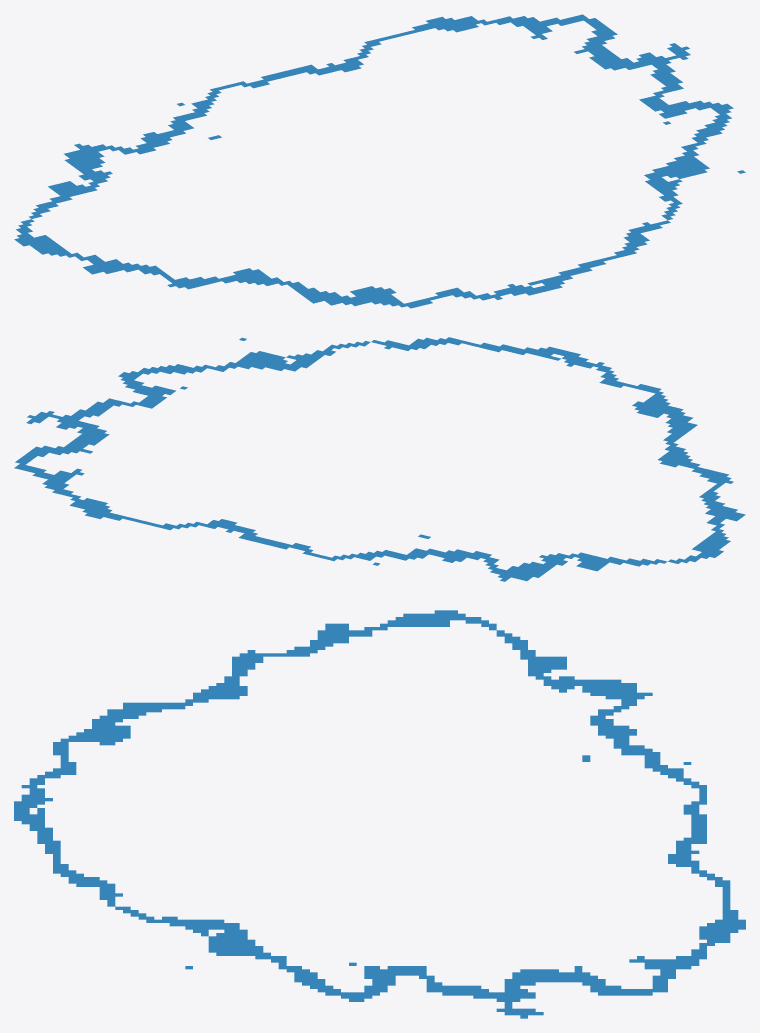
File: Isl-rocky6-PlaceForWaterObjects.fbx
The picture shows the model from 3 angles, top to bottom: view 1: azimuth 30°, elevation 25°; view 2: azimuth 150°, elevation 25°; view 3: azimuth 270°, elevation 25°; orthographic projection. The views are drawn at different scales.
Visible parts, largest first — view 1: Isl-rocky6-PlaceForWaterObjects; view 2: Isl-rocky6-PlaceForWaterObjects; view 3: Isl-rocky6-PlaceForWaterObjects.
Boxes of the visible parts, left/top/right/bottom form: Isl-rocky6-PlaceForWaterObjects: left=14, top=14, right=745, bottom=308; Isl-rocky6-PlaceForWaterObjects: left=14, top=337, right=745, bottom=581; Isl-rocky6-PlaceForWaterObjects: left=14, top=610, right=745, bottom=1018.
Bounding box in the file's own units: 124 × 0 × 94.
